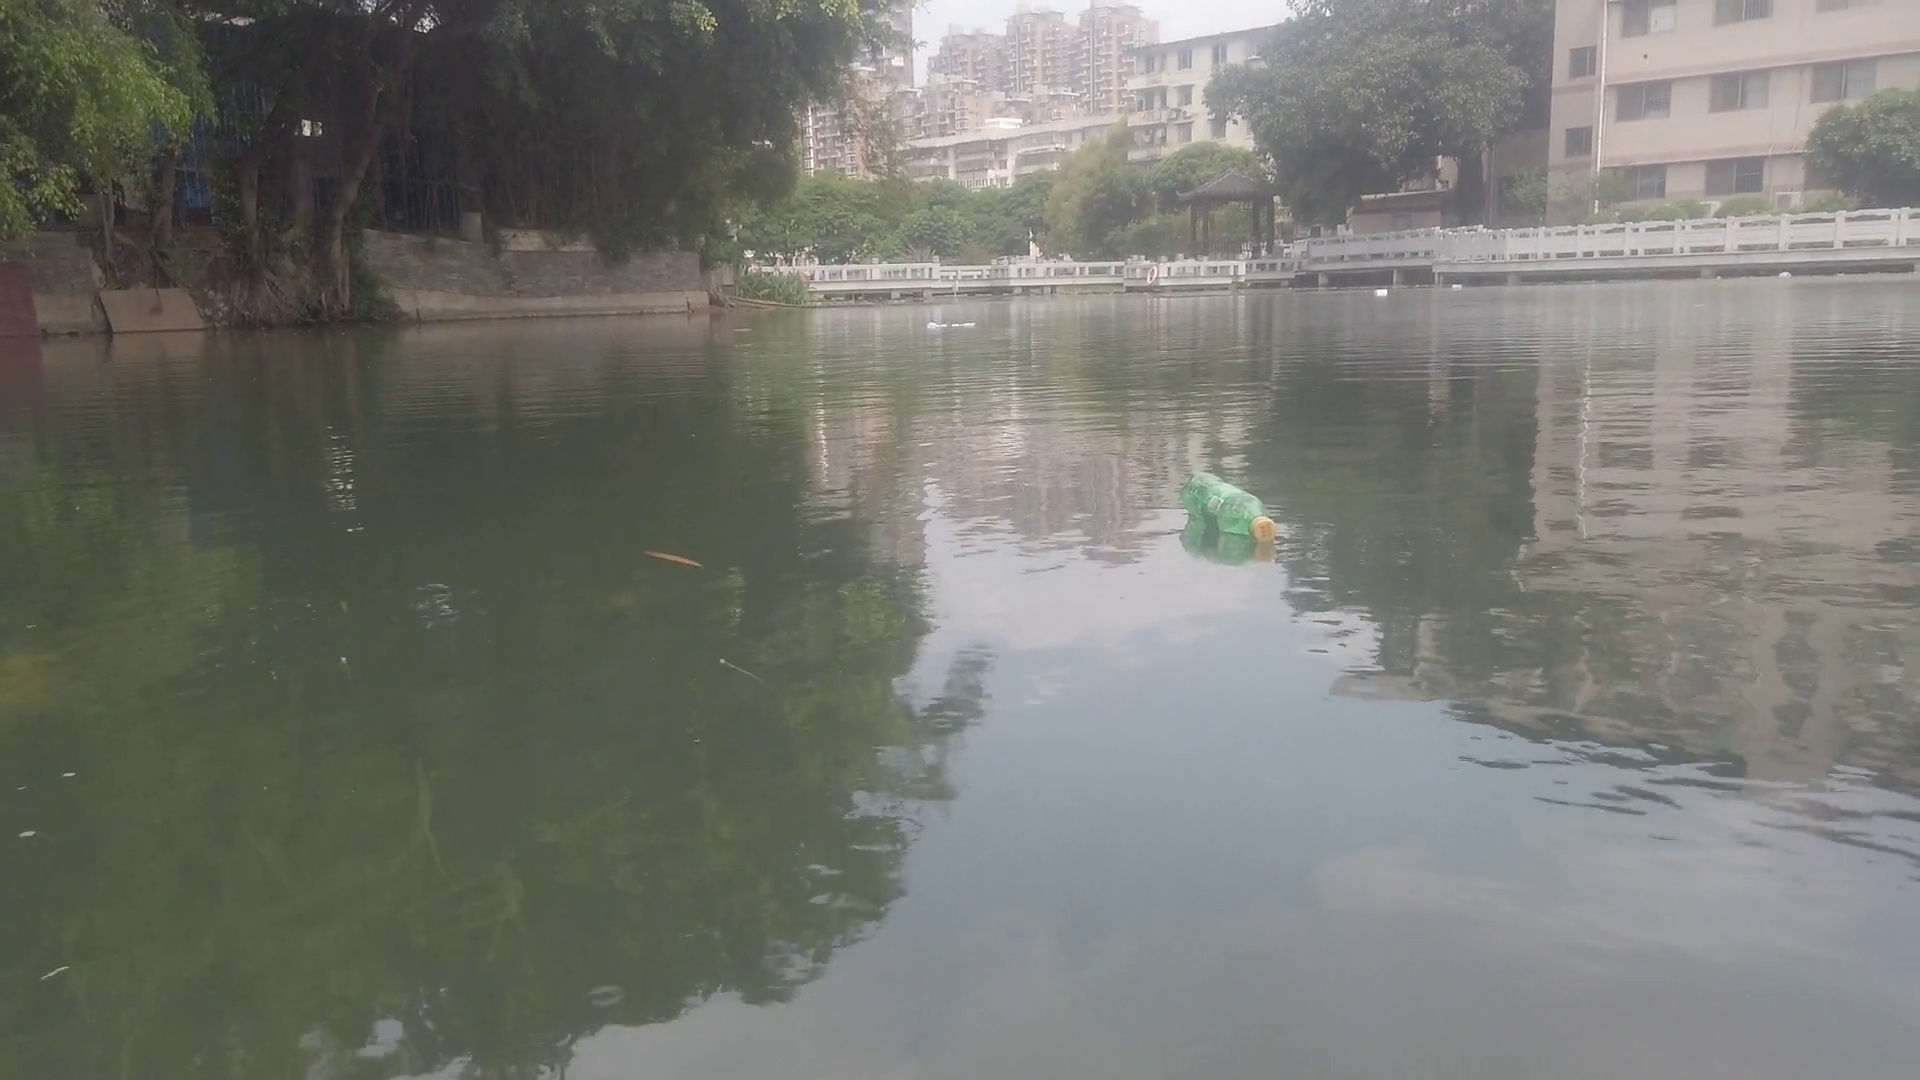bottle: (1174, 469, 1278, 539)
carton: (1451, 282, 1465, 291), (1377, 295, 1390, 298)
paper: (923, 316, 977, 330)
